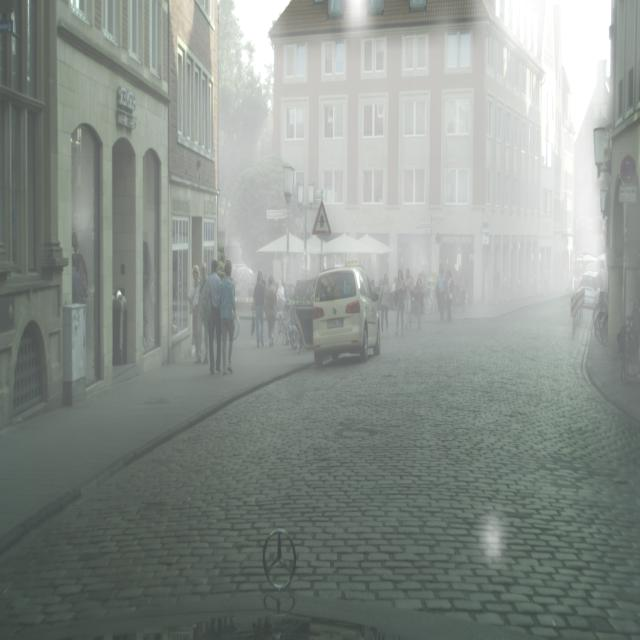car: (617, 299, 640, 384), (275, 302, 302, 350), (593, 289, 609, 346)
person: (219, 261, 236, 374), (207, 258, 222, 375), (191, 264, 206, 364), (196, 263, 210, 364), (189, 265, 201, 362), (264, 274, 278, 348), (253, 270, 266, 349), (379, 273, 390, 334), (436, 266, 446, 323), (445, 270, 455, 322)
truck: (312, 266, 381, 367)
